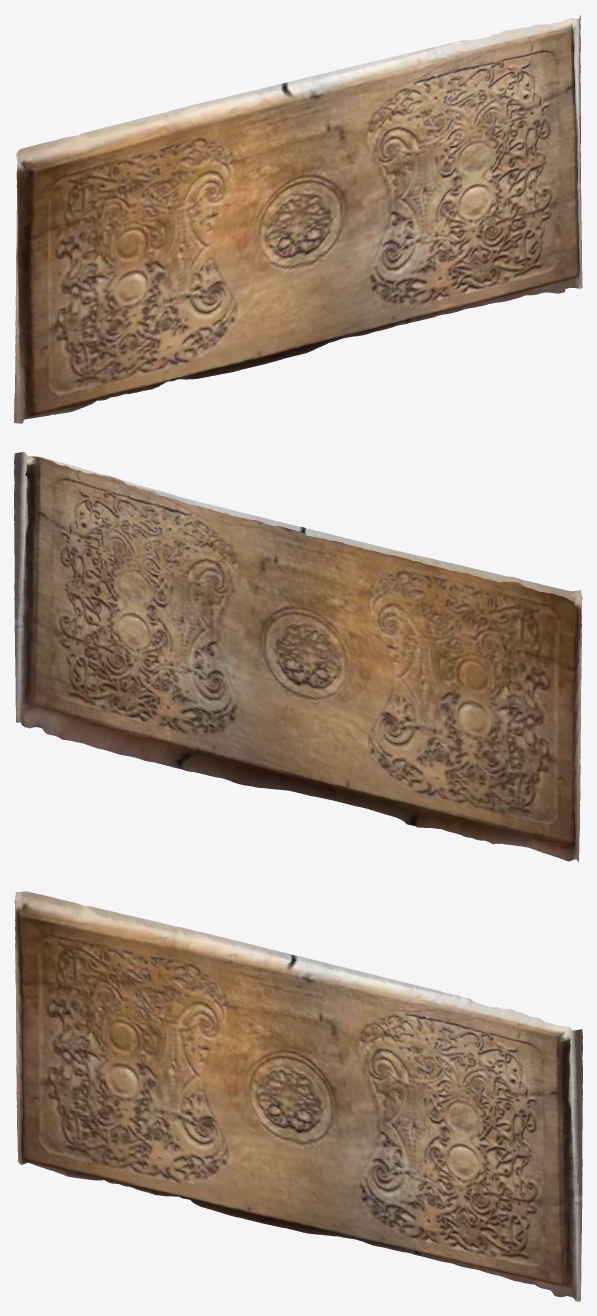
File: ukiran-dayak.glb
The picture shows the model from 3 angles, top to bottom: view 1: azimuth 30°, elevation 25°; view 2: azimuth 150°, elevation 25°; view 3: azimuth 330°, elevation 25°; orthographic projection.
Visible parts, largest first — view 1: mesh_main_0; view 2: mesh_main_0; view 3: mesh_main_0.
Boxes of the visible parts, x1,y1,x2,y2 form: mesh_main_0: [14, 15, 582, 423]; mesh_main_0: [14, 452, 582, 862]; mesh_main_0: [14, 891, 582, 1301].
Bounding box in the file's own units: 1.84 × 0.8437 × 0.081.
1 material, 1 textured.
